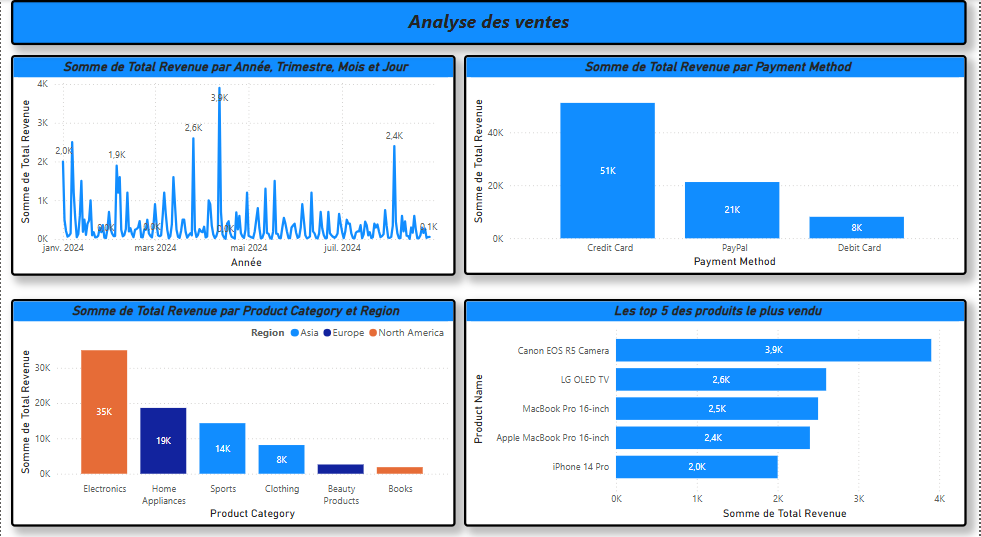

Layout of this report page (visuals, bound fields, positions):
{"tool":"powerbi","page":{"name":"Page 1","canvas":[1280,720],"ordinal":0},"visuals":[{"type":"lineChart","fields":{"Category":["Online Sales Data.Date.Variation.Hiérarchie de dates.Année","Online Sales Data.Date.Variation.Hiérarchie de dates.Trimestre","Online Sales Data.Date.Variation.Hiérarchie de dates.Mois","Online Sales Data.Date.Variation.Hiérarchie de dates.Jour"],"Y":["Sum(Online Sales Data.Total Revenue)"]},"box":[13,72,581.8,289.4],"z":3},{"type":"columnChart","fields":{"Category":["Online Sales Data.Product Category"],"Y":["Sum(Online Sales Data.Total Revenue)"],"Series":["Online Sales Data.Region"]},"box":[13,391.7,581.8,298.1],"z":4},{"type":"columnChart","fields":{"Category":["Online Sales Data.Payment Method"],"Y":["Sum(Online Sales Data.Total Revenue)"]},"box":[606.2,72,658.1,288],"z":5},{"type":"barChart","title":"Les top 5  des produits le plus vendu","fields":{"Category":["Online Sales Data.Product Name"],"Y":["Sum(Online Sales Data.Total Revenue)"]},"box":[606.2,391.7,658.1,298.1],"z":6},{"type":"textbox","box":[13,0,1251.4,59],"z":7}]}

Visuals, with their boxes in screenshot pixels (x1, y1, x2, y2), scaled from the page's 1280x720 canvas onto the 981x537 screenshot:
lineChart - Online Sales Data.Date.Variation.Hiérarchie de dates.Année x Online Sales Data.Date.Variation.Hiérarchie de dates.Trimestre: [x1=10, y1=54, x2=456, y2=270]
columnChart - Online Sales Data.Product Category x Sum(Online Sales Data.Total Revenue): [x1=10, y1=292, x2=456, y2=514]
columnChart - Online Sales Data.Payment Method x Sum(Online Sales Data.Total Revenue): [x1=465, y1=54, x2=969, y2=268]
"Les top 5  des produits le plus vendu" barChart: [x1=465, y1=292, x2=969, y2=514]
textbox: [x1=10, y1=0, x2=969, y2=44]
